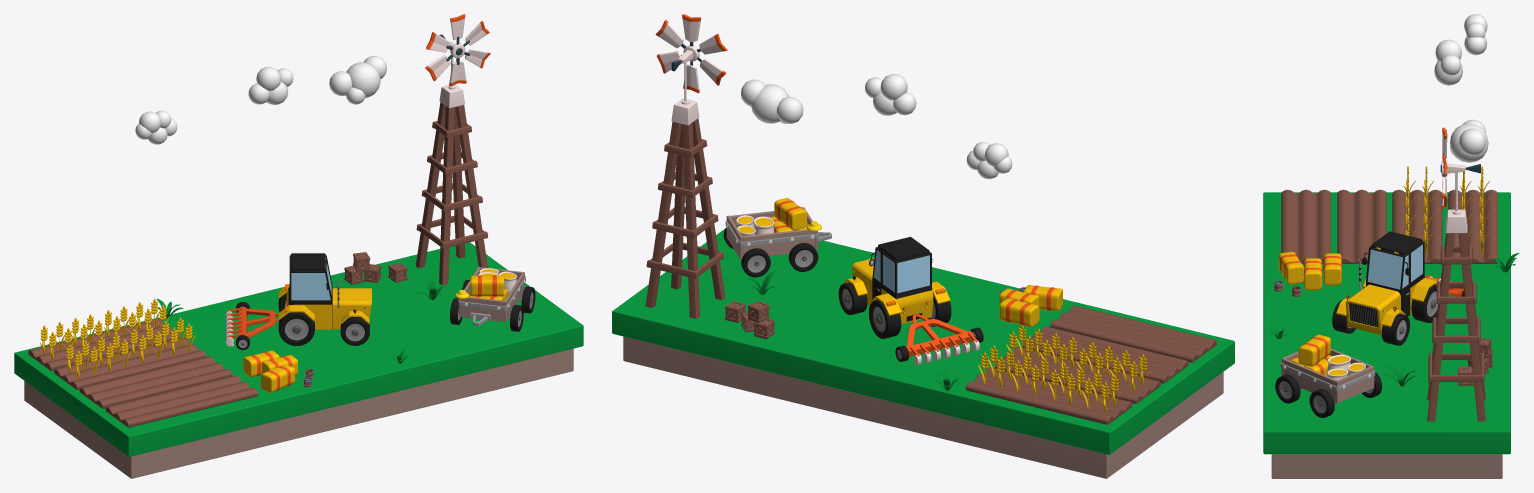
Rendered from Farm_Island_8.glb.
3 renders of one model, left to right at view 1: azimuth 30°, elevation 25°; view 2: azimuth 150°, elevation 25°; view 3: azimuth 270°, elevation 25°, orthographic. The views are drawn at different scales.
Parts seen in each view (by area): view 1: Farm_8_Base_1, Farm_8_Windmill_1, Farm_8_Tractor_1, Farm_8_Garden_2, Farm_8_Garden_3, Farm_8_Garden_1, Farm_8_Trailer_1, Farm_8_Garden_4, Farm_8_Cloud_3, Farm_8_Tractor_Plow_1, Farm_8_Cloud_2, Farm_8_Cloud_1 (+2 smaller); view 2: Farm_8_Base_1, Farm_8_Windmill_1, Farm_8_Tractor_1, Farm_8_Garden_2, Farm_8_Garden_4, Farm_8_Trailer_1, Farm_8_Garden_3, Farm_8_Garden_1, Farm_8_Tractor_Plow_1, Farm_8_Cloud_3, Farm_8_Cloud_2, Farm_8_Cloud_1 (+3 smaller); view 3: Farm_8_Base_1, Farm_8_Tractor_1, Farm_8_Windmill_1, Farm_8_Trailer_1, Farm_8_Garden_2, Farm_8_Garden_3, Farm_8_Garden_1, Farm_8_Garden_4, Farm_8_Cloud_3, Farm_8_Cloud_2, Farm_8_Cloud_1, Farm_8_Hay_5 (+4 smaller).
Part boxes in pixels (<box>): Farm_8_Base_1: <box>14,242,583,478</box>; Farm_8_Windmill_1: <box>415,14,490,285</box>; Farm_8_Tractor_1: <box>278,253,371,345</box>; Farm_8_Garden_2: <box>105,375,257,427</box>; Farm_8_Garden_3: <box>79,356,231,408</box>; Farm_8_Garden_1: <box>54,337,206,389</box>; Farm_8_Trailer_1: <box>450,267,535,331</box>; Farm_8_Garden_4: <box>28,318,179,370</box>; Farm_8_Cloud_3: <box>329,56,386,104</box>; Farm_8_Tractor_Plow_1: <box>226,302,279,350</box>; Farm_8_Cloud_2: <box>248,66,293,104</box>; Farm_8_Cloud_1: <box>135,110,177,144</box>; Farm_8_Base_1: <box>612,228,1234,478</box>; Farm_8_Windmill_1: <box>645,14,727,318</box>; Farm_8_Tractor_1: <box>838,236,951,338</box>; Farm_8_Garden_2: <box>1050,305,1216,362</box>; Farm_8_Garden_4: <box>965,367,1132,424</box>; Farm_8_Trailer_1: <box>723,207,831,277</box>; Farm_8_Garden_3: <box>1022,326,1188,383</box>; Farm_8_Garden_1: <box>994,347,1160,403</box>; Farm_8_Tractor_Plow_1: <box>895,314,983,365</box>; Farm_8_Cloud_3: <box>741,79,803,123</box>; Farm_8_Cloud_2: <box>865,74,916,115</box>; Farm_8_Cloud_1: <box>966,142,1012,179</box>; Farm_8_Base_1: <box>1263,192,1510,478</box>; Farm_8_Tractor_1: <box>1332,231,1437,345</box>; Farm_8_Windmill_1: <box>1427,127,1485,421</box>; Farm_8_Trailer_1: <box>1275,348,1382,417</box>; Farm_8_Garden_2: <box>1281,189,1330,263</box>; Farm_8_Garden_3: <box>1337,189,1386,263</box>; Farm_8_Garden_1: <box>1392,189,1442,263</box>; Farm_8_Garden_4: <box>1448,189,1497,263</box>; Farm_8_Cloud_3: <box>1449,119,1488,162</box>; Farm_8_Cloud_2: <box>1434,39,1462,85</box>; Farm_8_Cloud_1: <box>1464,14,1487,55</box>; Farm_8_Hay_5: <box>1298,334,1330,366</box>.
Bounding box in the file's own units: 25.69 × 16.42 × 11.59.
63 materials, 63 textured.
